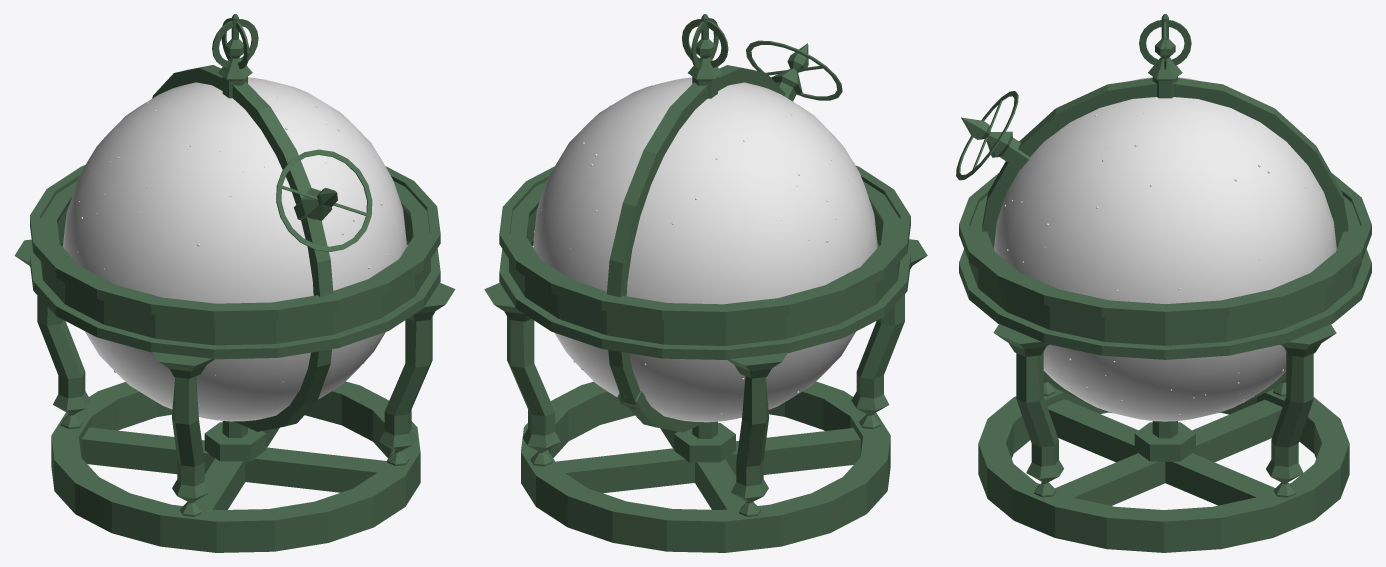
Rendered from 天球仪圆形.fbx.
3 renders of one model, left to right at view 1: azimuth 30°, elevation 25°; view 2: azimuth 150°, elevation 25°; view 3: azimuth 270°, elevation 25°, orthographic.
Parts seen in each view (by area): view 1: 星空圆形.001, 柱体.010, 圆环, 立方体.003, 柱体.013, 脚脚.010, 脚脚.008, 脚脚.011, 柱体.012, 柱体.017, 柱体.016, 柱体.015; view 2: 星空圆形.001, 柱体.010, 圆环, 立方体.003, 柱体.013, 脚脚.009, 脚脚.011, 脚脚.008, 柱体.012, 柱体.016, 柱体.017, 柱体.015; view 3: 星空圆形.001, 柱体.010, 圆环, 立方体.003, 柱体.013, 脚脚.009, 脚脚.010, 柱体.012, 柱体.016, 柱体.017, 柱体.014.
Part boxes in pixels (x1=…): 星空圆形.001: x1=63, y1=77, x2=406, y2=421; 柱体.010: x1=30, y1=165, x2=440, y2=359; 圆环: x1=51, y1=381, x2=420, y2=552; 立方体.003: x1=81, y1=427, x2=386, y2=509; 柱体.013: x1=152, y1=65, x2=333, y2=431; 脚脚.010: x1=379, y1=283, x2=455, y2=465; 脚脚.008: x1=152, y1=352, x2=214, y2=516; 脚脚.011: x1=14, y1=239, x2=90, y2=429; 柱体.012: x1=204, y1=14, x2=265, y2=461; 柱体.017: x1=276, y1=149, x2=372, y2=251; 柱体.016: x1=294, y1=188, x2=337, y2=220; 柱体.015: x1=212, y1=19, x2=258, y2=67; 星空圆形.001: x1=533, y1=77, x2=877, y2=422; 柱体.010: x1=499, y1=165, x2=910, y2=359; 圆环: x1=521, y1=381, x2=890, y2=552; 立方体.003: x1=556, y1=428, x2=860, y2=509; 柱体.013: x1=607, y1=65, x2=785, y2=432; 脚脚.009: x1=484, y1=283, x2=560, y2=466; 脚脚.011: x1=727, y1=352, x2=787, y2=516; 脚脚.008: x1=851, y1=239, x2=927, y2=429; 柱体.012: x1=674, y1=14, x2=735, y2=462; 柱体.016: x1=617, y1=43, x2=808, y2=409; 柱体.017: x1=746, y1=40, x2=842, y2=100; 柱体.015: x1=682, y1=19, x2=728, y2=67; 星空圆形.001: x1=994, y1=77, x2=1336, y2=421; 柱体.010: x1=959, y1=173, x2=1371, y2=359; 圆环: x1=978, y1=383, x2=1349, y2=552; 立方体.003: x1=1047, y1=399, x2=1282, y2=505; 柱体.013: x1=982, y1=78, x2=1348, y2=413; 脚脚.009: x1=1266, y1=324, x2=1336, y2=497; 脚脚.010: x1=993, y1=324, x2=1063, y2=497; 柱体.012: x1=1134, y1=14, x2=1195, y2=461; 柱体.016: x1=961, y1=117, x2=1314, y2=353; 柱体.017: x1=956, y1=91, x2=1018, y2=180; 柱体.014: x1=1139, y1=20, x2=1191, y2=65.
Size of the model in its own units: 2060 by 2530 by 2074.
